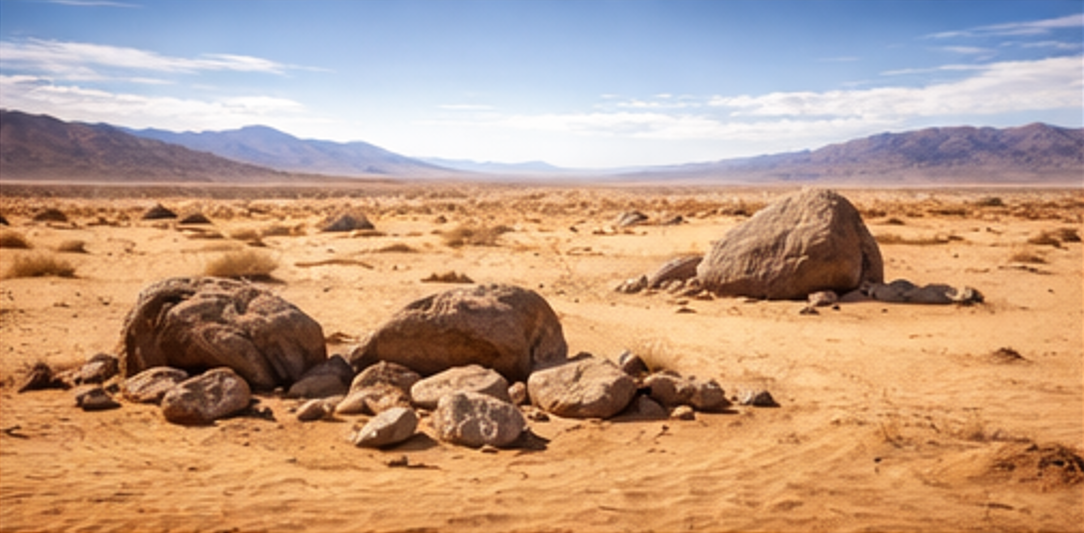rocks: (123, 278, 326, 388), (351, 283, 565, 380), (697, 189, 881, 298), (526, 356, 634, 416), (430, 393, 525, 447), (160, 367, 250, 424), (410, 364, 510, 408), (861, 278, 983, 304), (644, 372, 728, 409), (286, 354, 353, 395), (350, 406, 417, 445), (124, 366, 187, 403), (646, 255, 701, 288), (322, 212, 373, 231), (351, 359, 353, 362)
